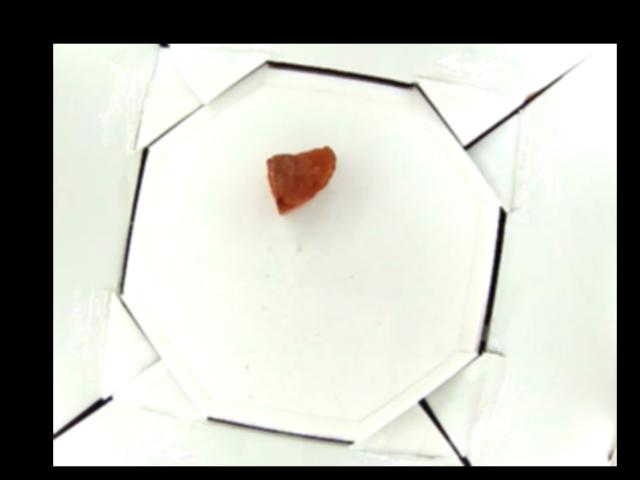Brisk: (265, 146, 336, 211)
